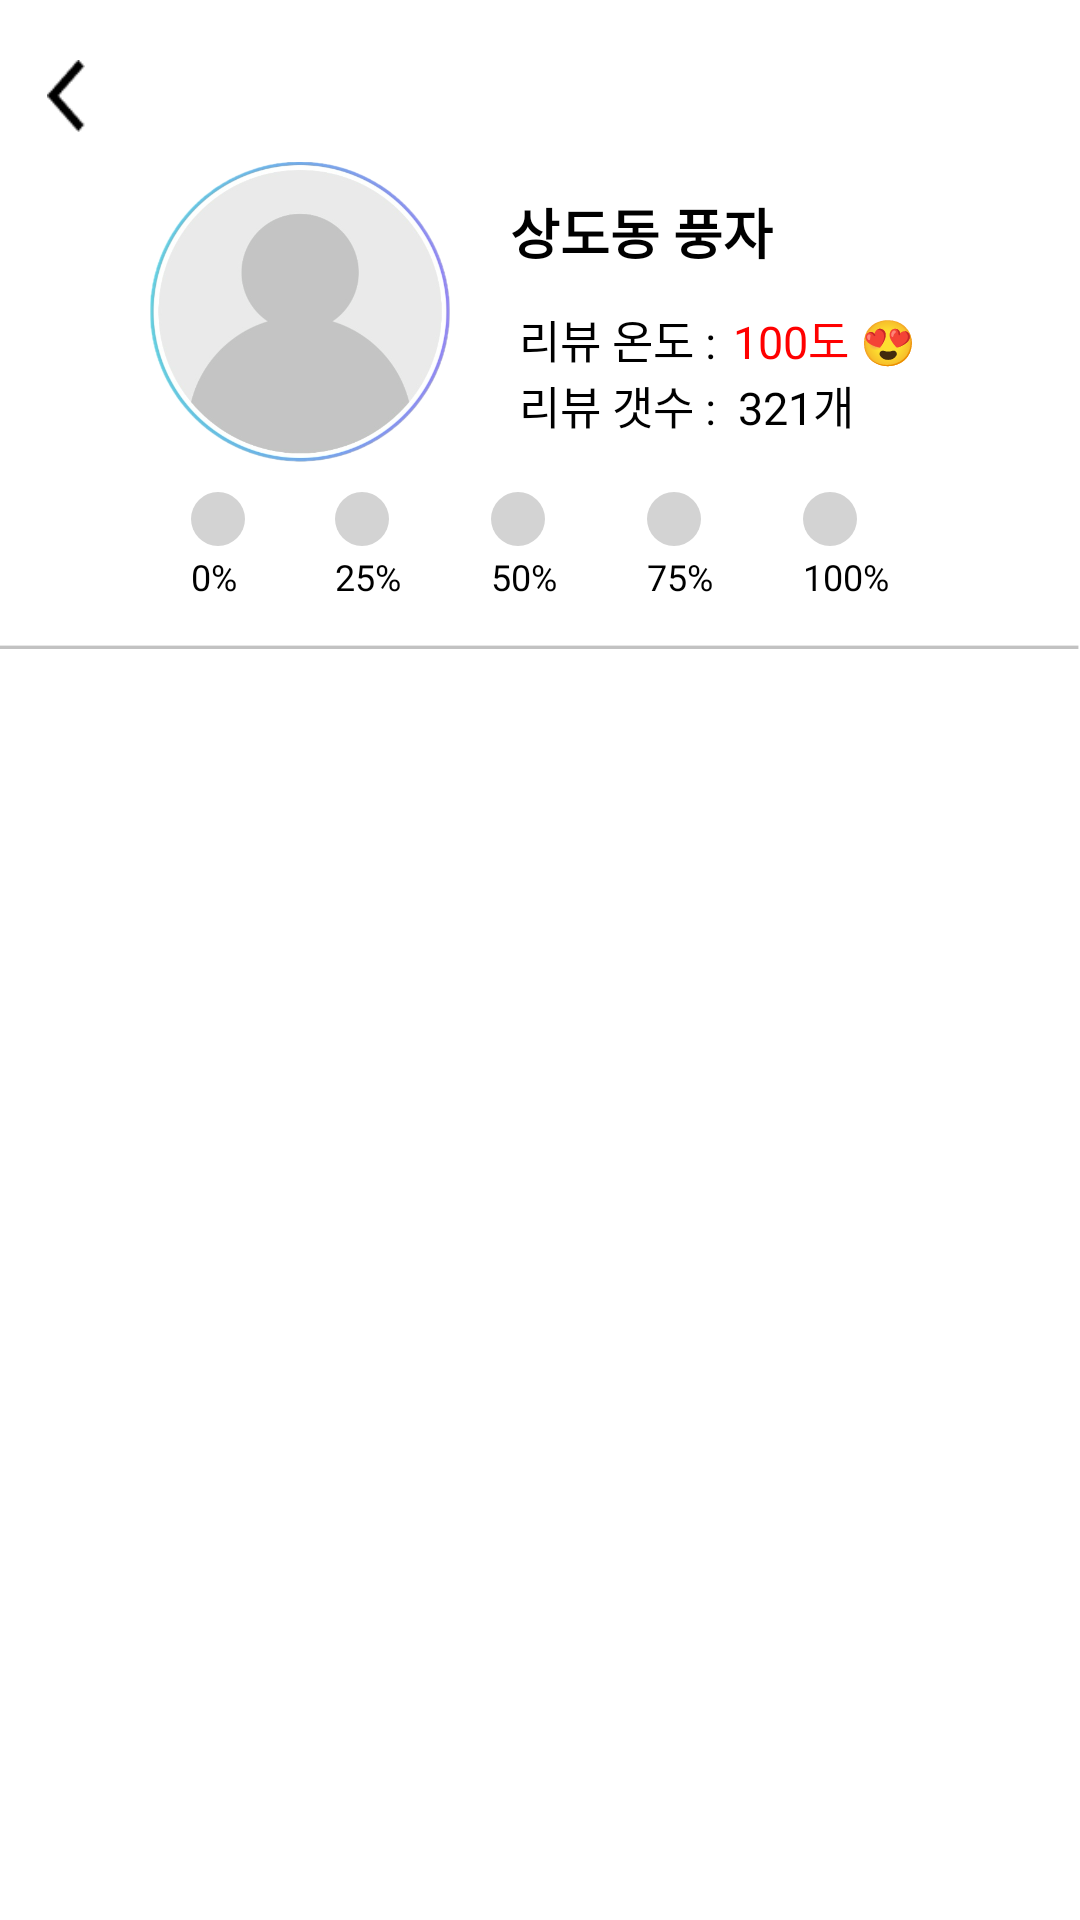

Point at icon controls on the screen. Image size 1080px x 1920px, points as [x,y].
back: [66,96]
